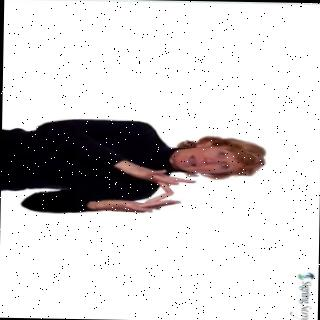Internet: (18, 118, 268, 220)
